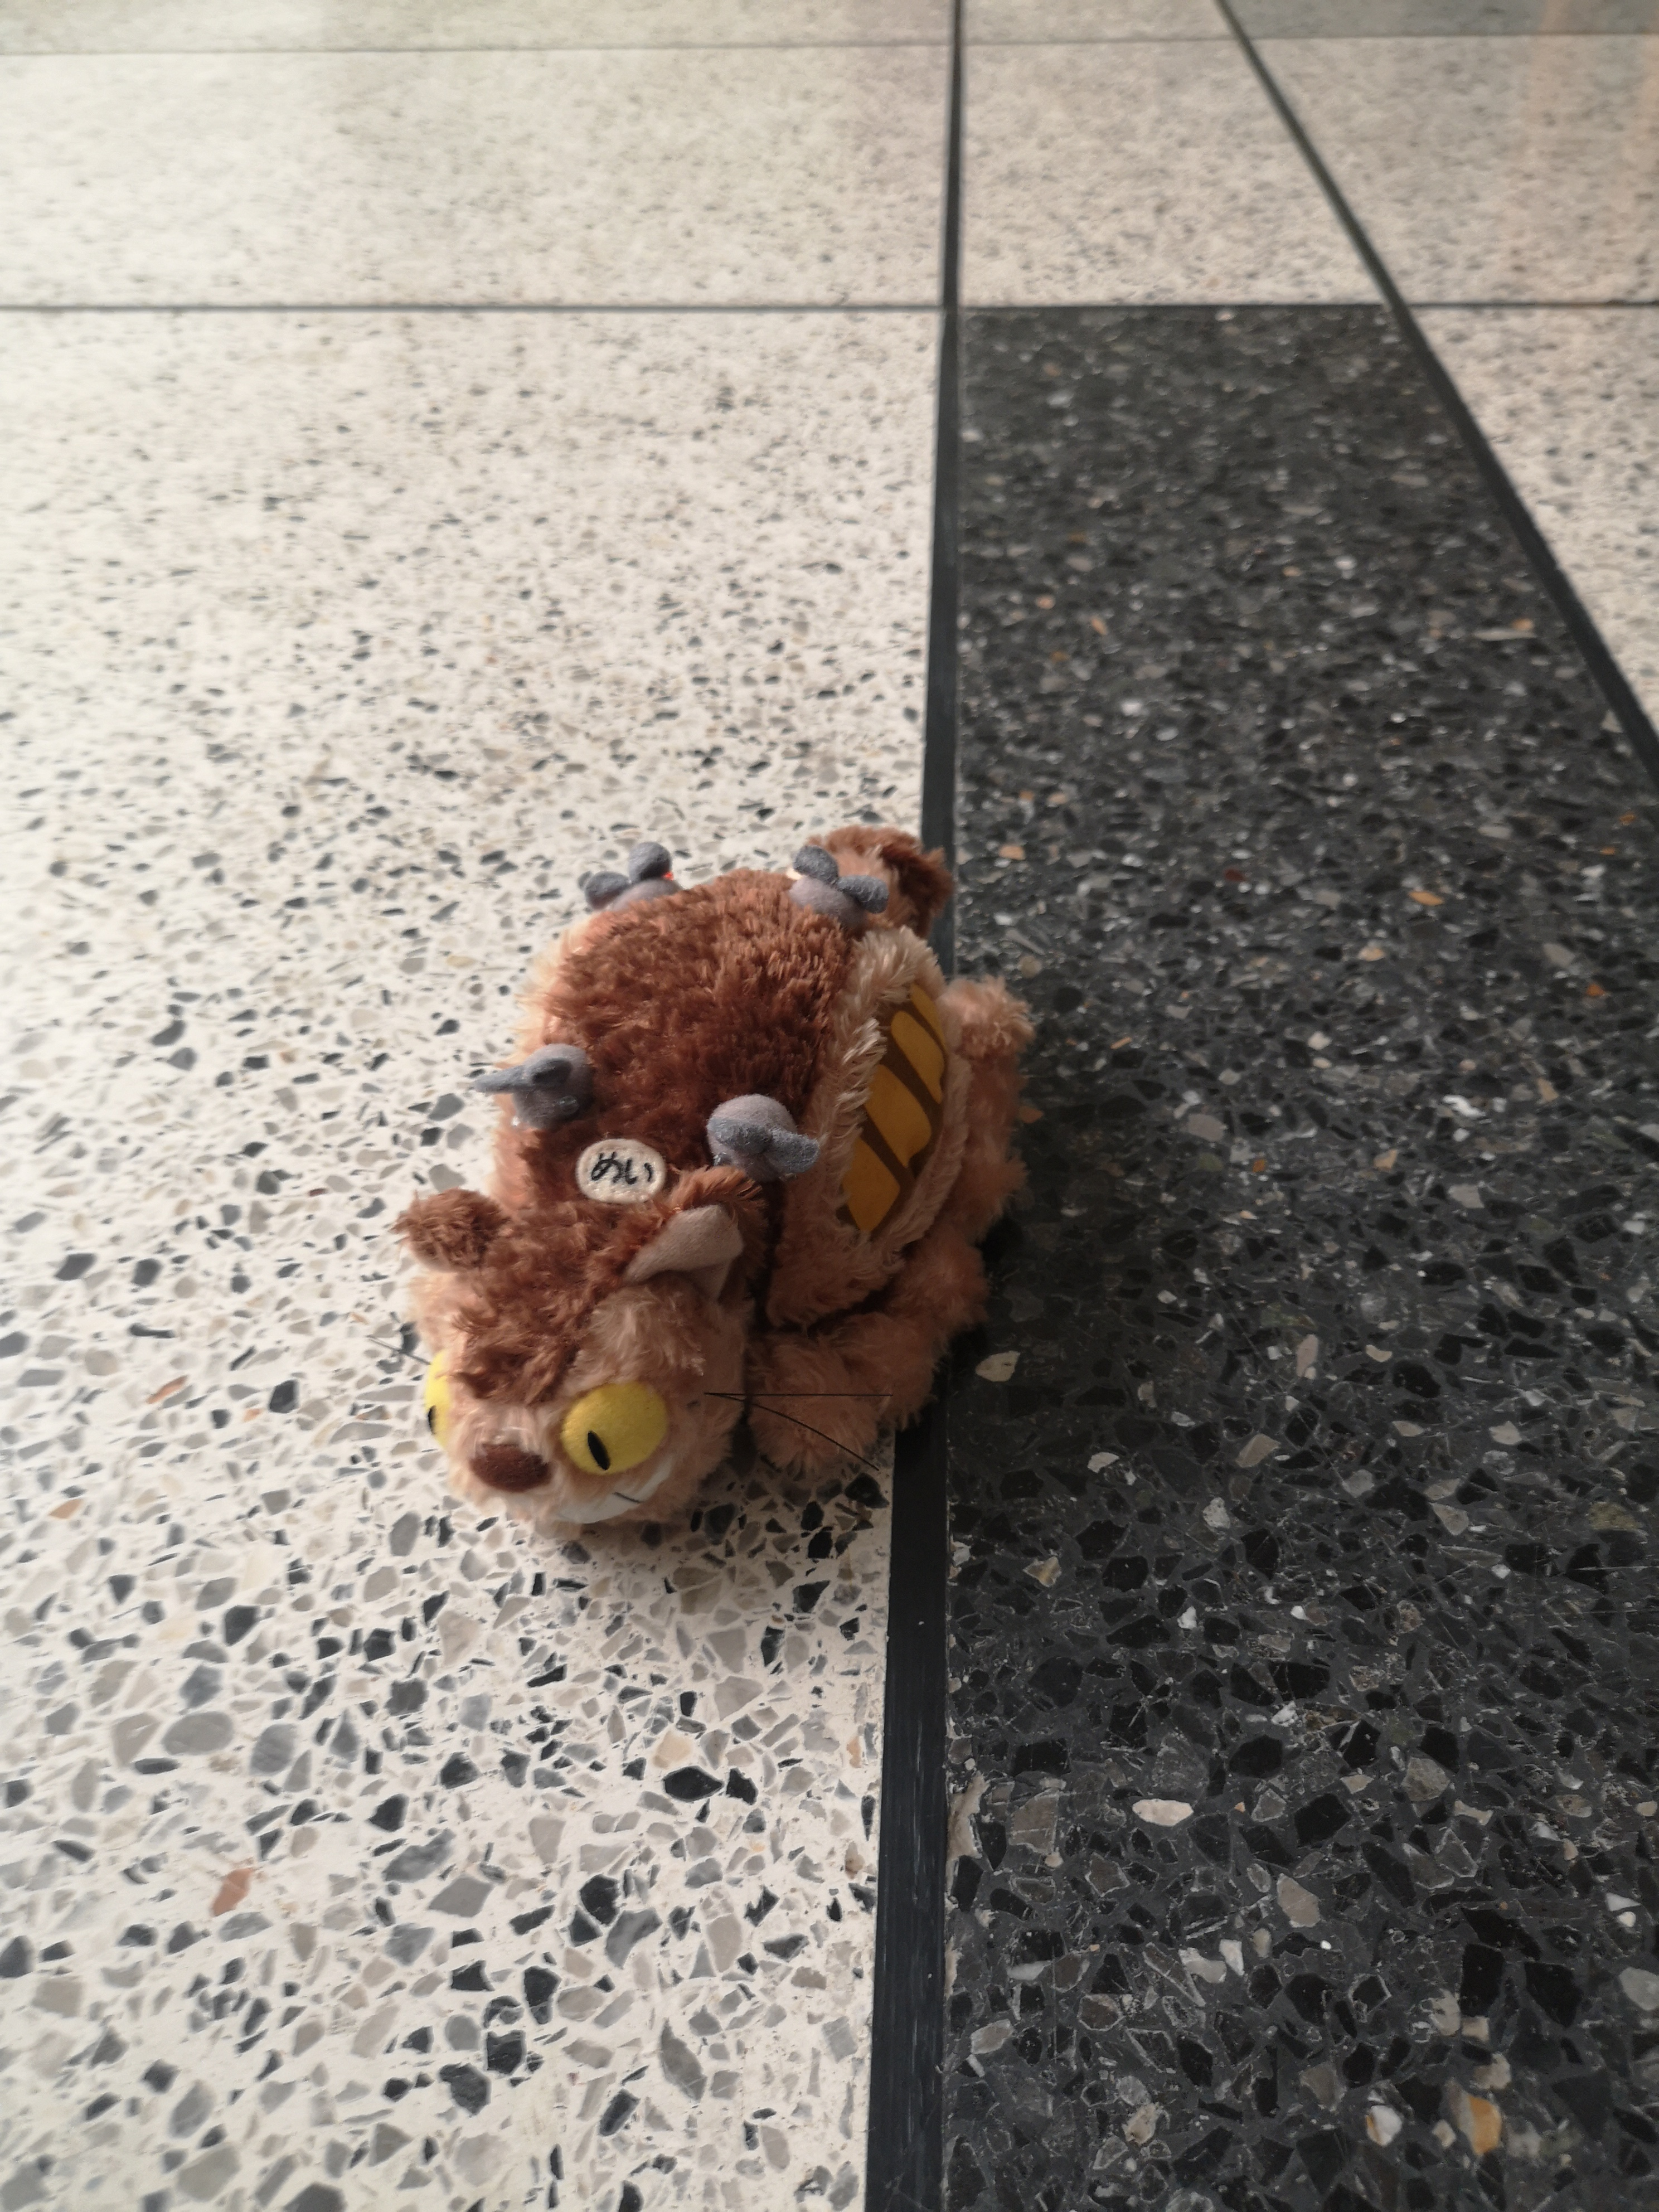nekobus: (389, 799, 1046, 1557)
